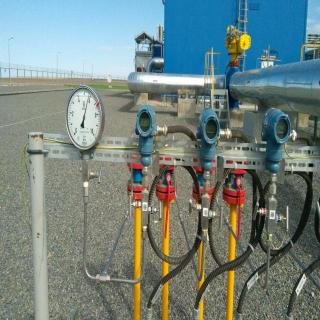gauge: (62, 84, 106, 152), (69, 128, 80, 138), (90, 130, 98, 141), (81, 115, 87, 120), (87, 95, 90, 98)
